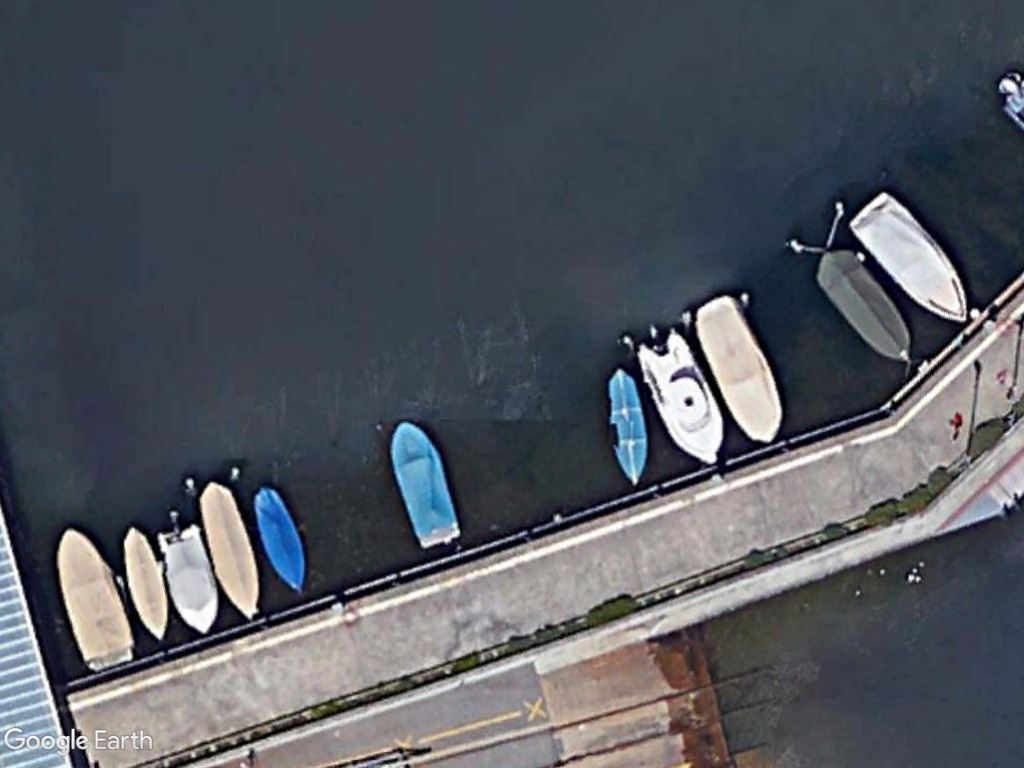boat: (848, 188, 975, 328), (687, 286, 786, 451), (633, 327, 727, 470), (810, 243, 915, 367), (50, 523, 138, 669), (387, 414, 461, 556), (197, 470, 263, 626), (157, 514, 221, 637), (248, 477, 308, 599), (604, 358, 653, 487), (121, 522, 171, 647)
